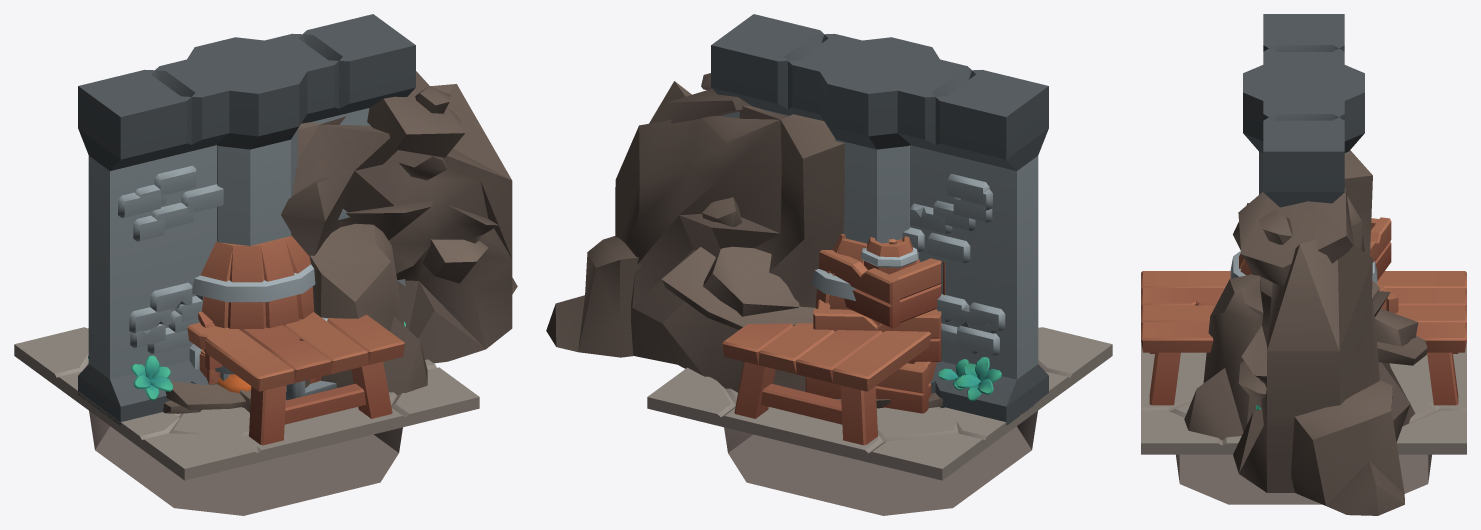
The model's file is dungeon.glb.
3 renders of one model, left to right at view 1: azimuth 30°, elevation 25°; view 2: azimuth 150°, elevation 25°; view 3: azimuth 270°, elevation 25°, orthographic. The views are drawn at different scales.
Parts seen in each view (by area): view 1: rubble_half, wall, wall_doorway, floor_tile_large, table_long, pillar, floor_tile_big_grate, wall_cracked, barrel_large, floor_tile_large_rocks, crates_stacked; view 2: rubble_half, wall, floor_tile_large, wall_doorway, table_long, floor_tile_big_grate, crates_stacked, pillar, wall_cracked, floor_tile_large_rocks, barrel_large; view 3: rubble_half, wall, table_long, floor_tile_large, floor_tile_big_grate, pillar, wall_cracked, floor_tile_large_rocks, crates_stacked, barrel_large.
Boxes of the visible parts, x1,y1,x2,y2 form: rubble_half: [281, 71, 517, 395]; wall: [78, 14, 415, 425]; wall_doorway: [80, 105, 405, 406]; floor_tile_large: [14, 327, 479, 480]; table_long: [187, 312, 404, 445]; pillar: [187, 37, 307, 245]; floor_tile_big_grate: [89, 411, 402, 515]; wall_cracked: [78, 14, 410, 407]; barrel_large: [192, 235, 315, 374]; floor_tile_large_rocks: [145, 379, 393, 452]; crates_stacked: [217, 317, 336, 400]; rubble_half: [546, 73, 844, 392]; wall: [711, 14, 1048, 425]; floor_tile_large: [647, 327, 1112, 480]; wall_doorway: [712, 88, 1047, 394]; table_long: [722, 323, 941, 445]; floor_tile_big_grate: [724, 411, 1037, 515]; crates_stacked: [805, 236, 945, 413]; pillar: [820, 37, 939, 243]; wall_cracked: [716, 14, 1048, 410]; floor_tile_large_rocks: [731, 327, 1047, 441]; barrel_large: [811, 234, 920, 324]; rubble_half: [1184, 150, 1427, 515]; wall: [1263, 14, 1344, 207]; table_long: [1141, 271, 1466, 405]; floor_tile_large: [1141, 306, 1466, 454]; floor_tile_big_grate: [1176, 454, 1431, 504]; pillar: [1243, 65, 1364, 194]; wall_cracked: [1256, 14, 1343, 410]; floor_tile_large_rocks: [1141, 341, 1439, 416]; crates_stacked: [1370, 217, 1398, 313]; barrel_large: [1230, 251, 1377, 284].
Size of the model in its own units: 6 by 5 by 4.
1 material, 1 textured.
